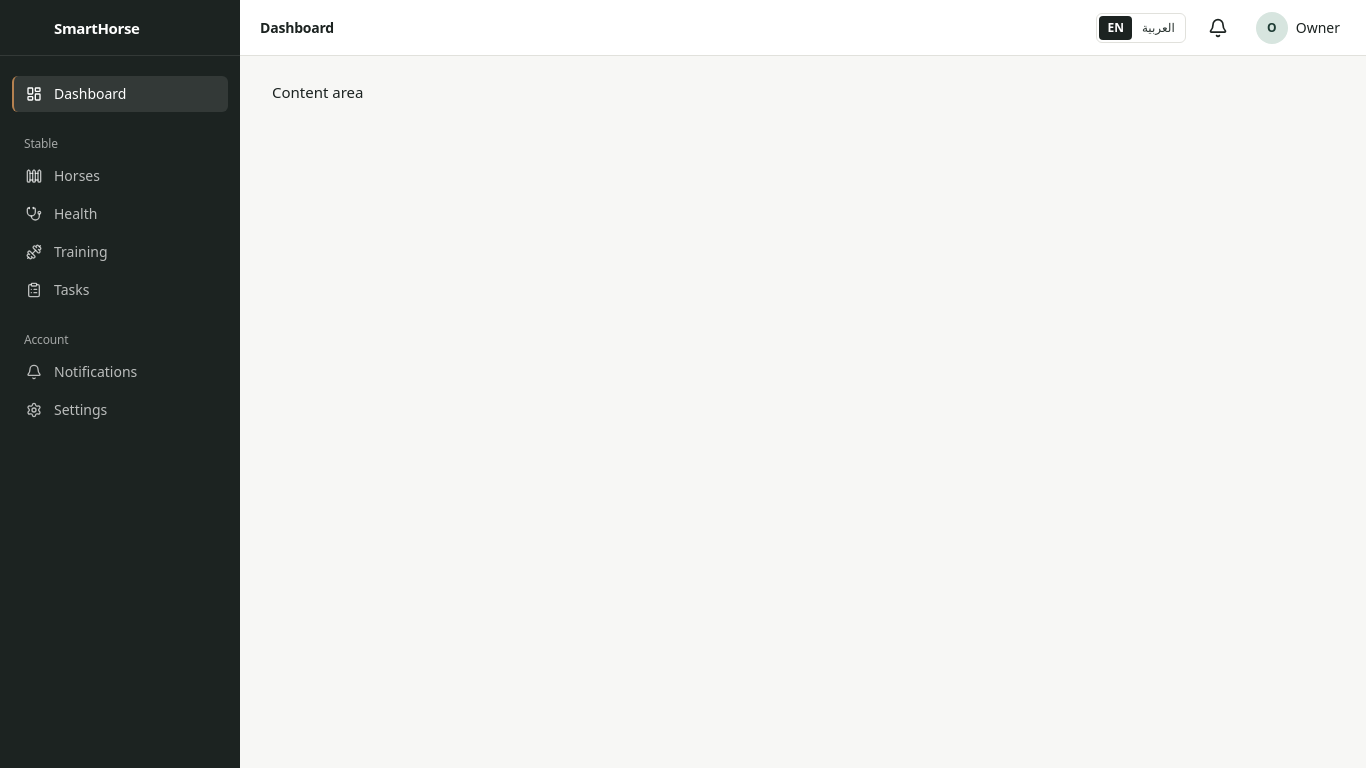
Scenario: AppShell › shows the signed-in user and a way to sign out
Step 1. Click the button named "account menu" → [1298, 28], box [1250, 8, 1346, 48]
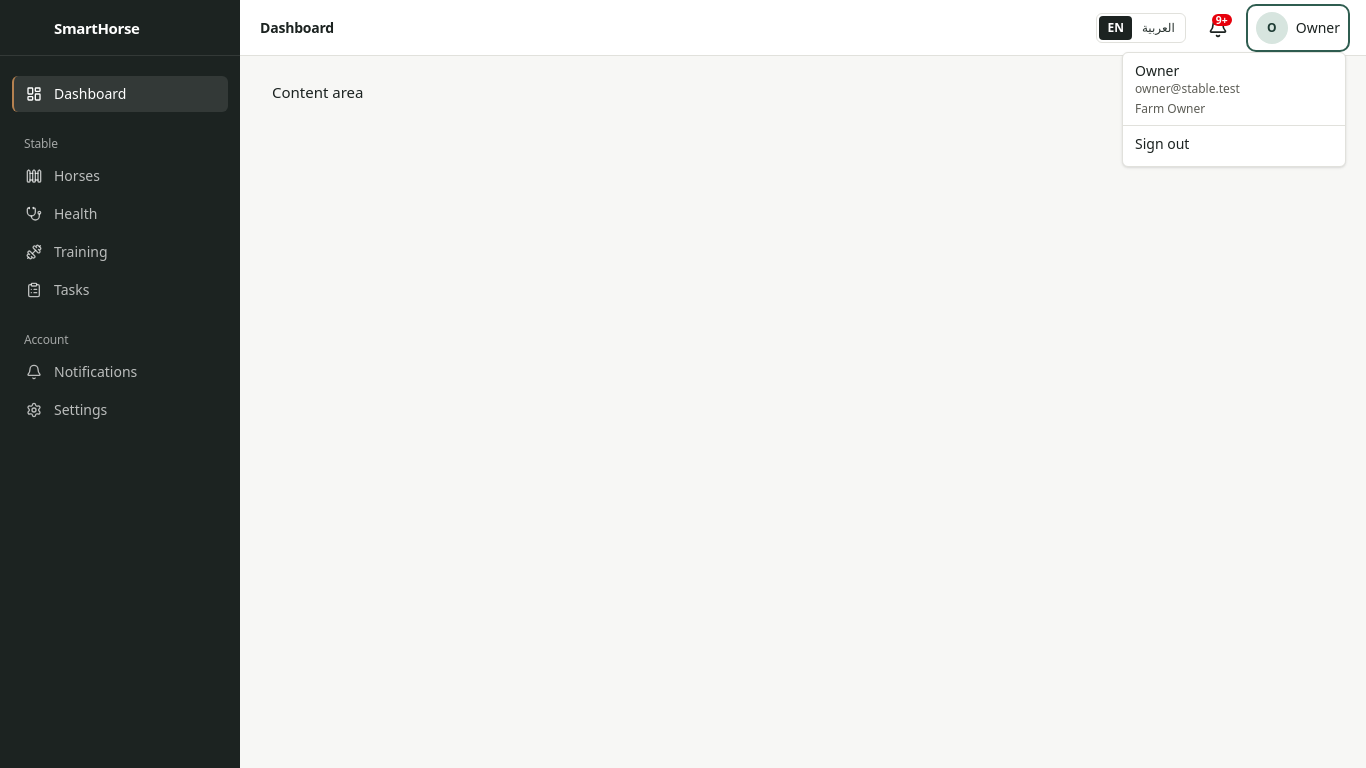
expect the menu shows "owner@stable.test": met, box [1135, 80, 1240, 96]
expect the menu item "Sign out" is shown: met, box [1123, 126, 1345, 162]
